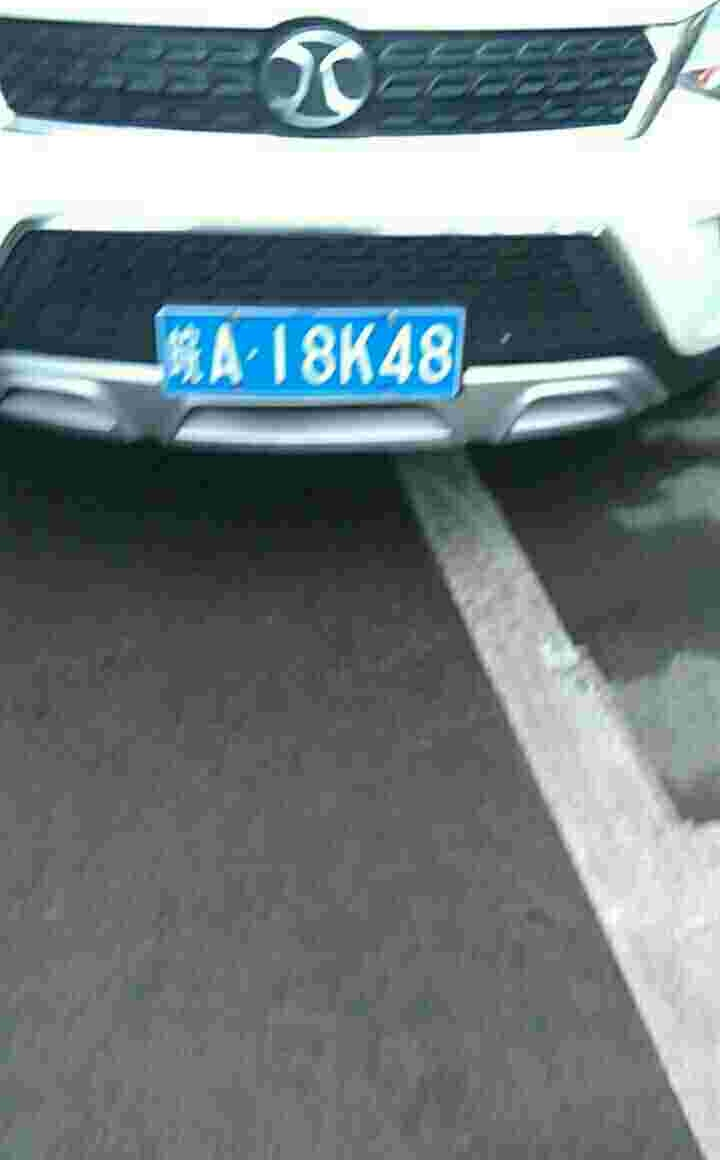license_plate: (156, 302, 475, 399)
